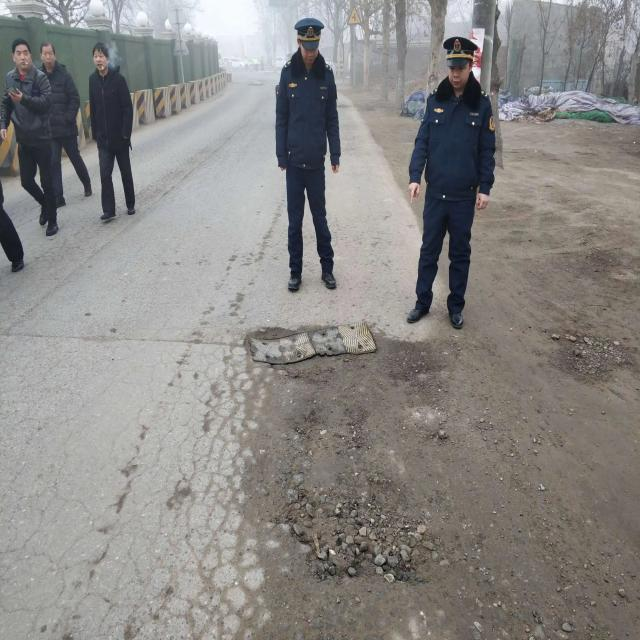pothole: (289, 408, 431, 589), (245, 324, 409, 383), (559, 336, 635, 387)
